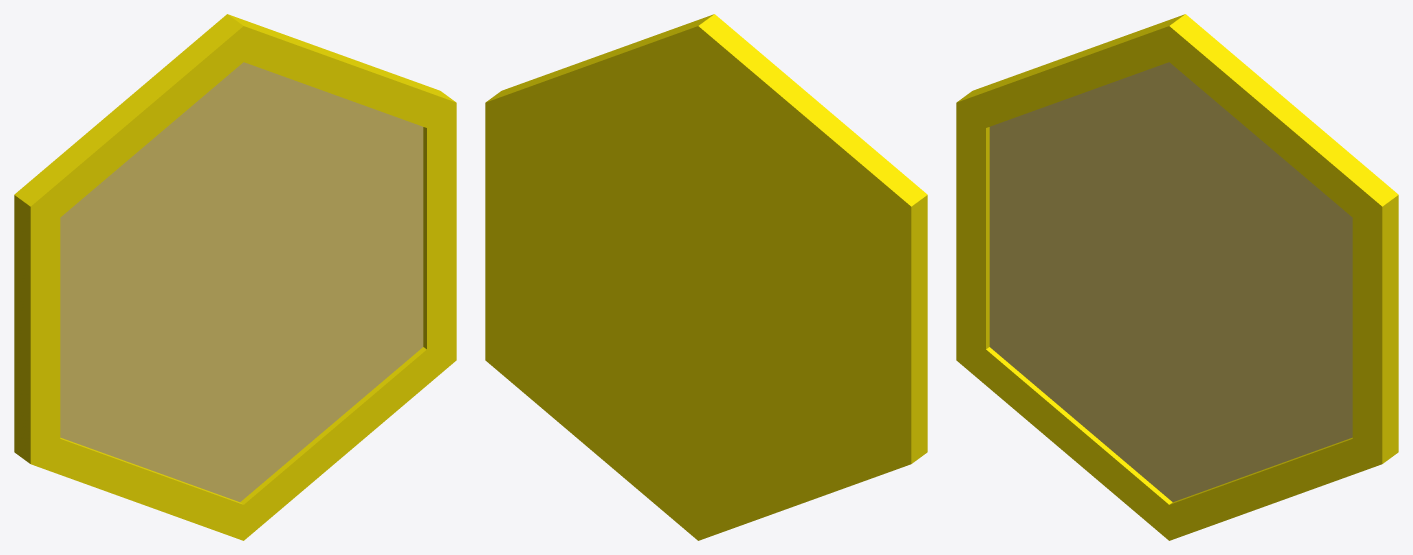
3 renders of one model, left to right at view 1: azimuth 30°, elevation 25°; view 2: azimuth 150°, elevation 25°; view 3: azimuth 330°, elevation 25°, orthographic.
Visible parts, largest first — view 1: 柱体; view 2: 柱体; view 3: 柱体.
Boxes of the visible parts, bbox=[...] form: 柱体: bbox=[14, 14, 456, 540]; 柱体: bbox=[485, 14, 927, 540]; 柱体: bbox=[956, 14, 1398, 540].
Bounding box in the file's own units: 1.73 × 2 × 0.1154.
